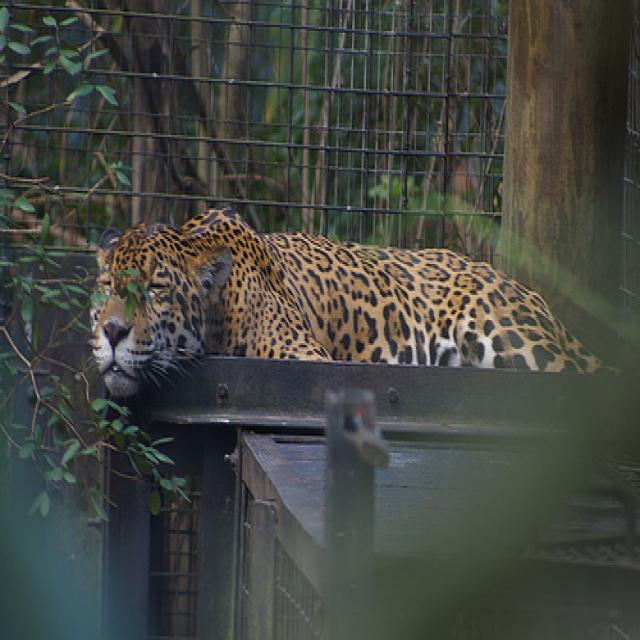Leopard: (77, 198, 609, 405)
